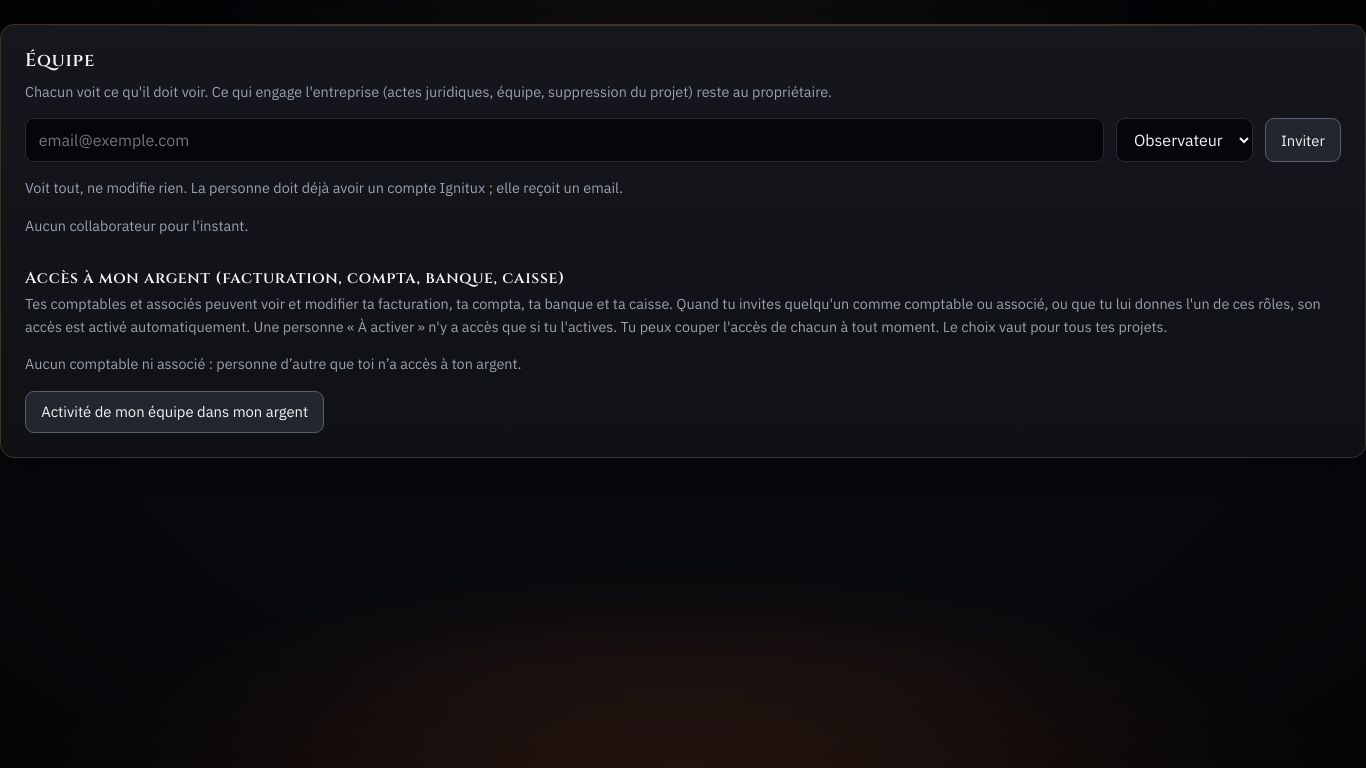
CollaboratorsSection › invite avec le rôle choisi et explique ce que ce rôle permet
This screenshot has width=1366, height=768.
Expected: the text "Aucun collaborateur pour l'instant." is shown, [25,216,248,235]
Select "Salarié" in the dropdown named "Rôle de la personne invitée" at (1184, 140), box [1116,118,1253,162]
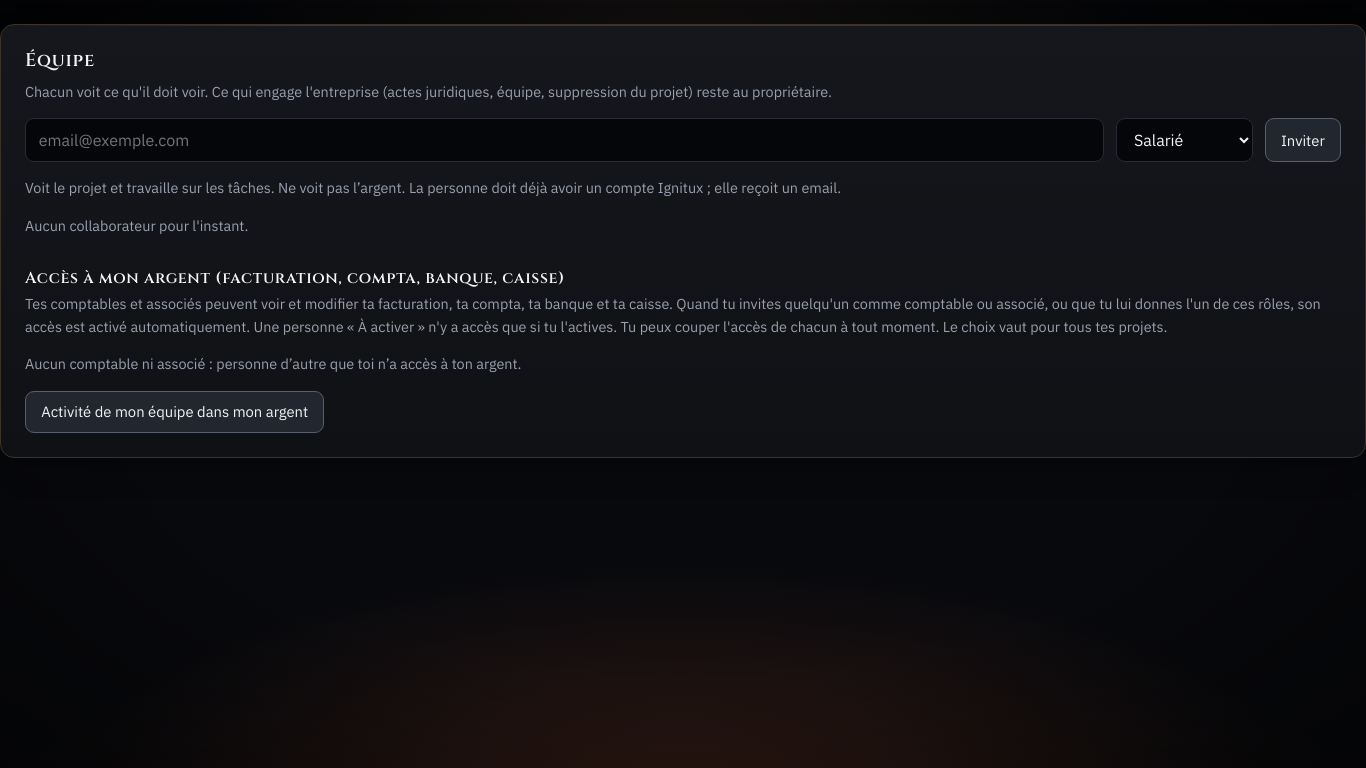
Expected: the text "travaille sur les tâches" is shown, [25,178,406,197]
Type "b@b.com" into the field named "Email du collaborateur à ajouter" at (565, 140), box [25,118,1104,162]
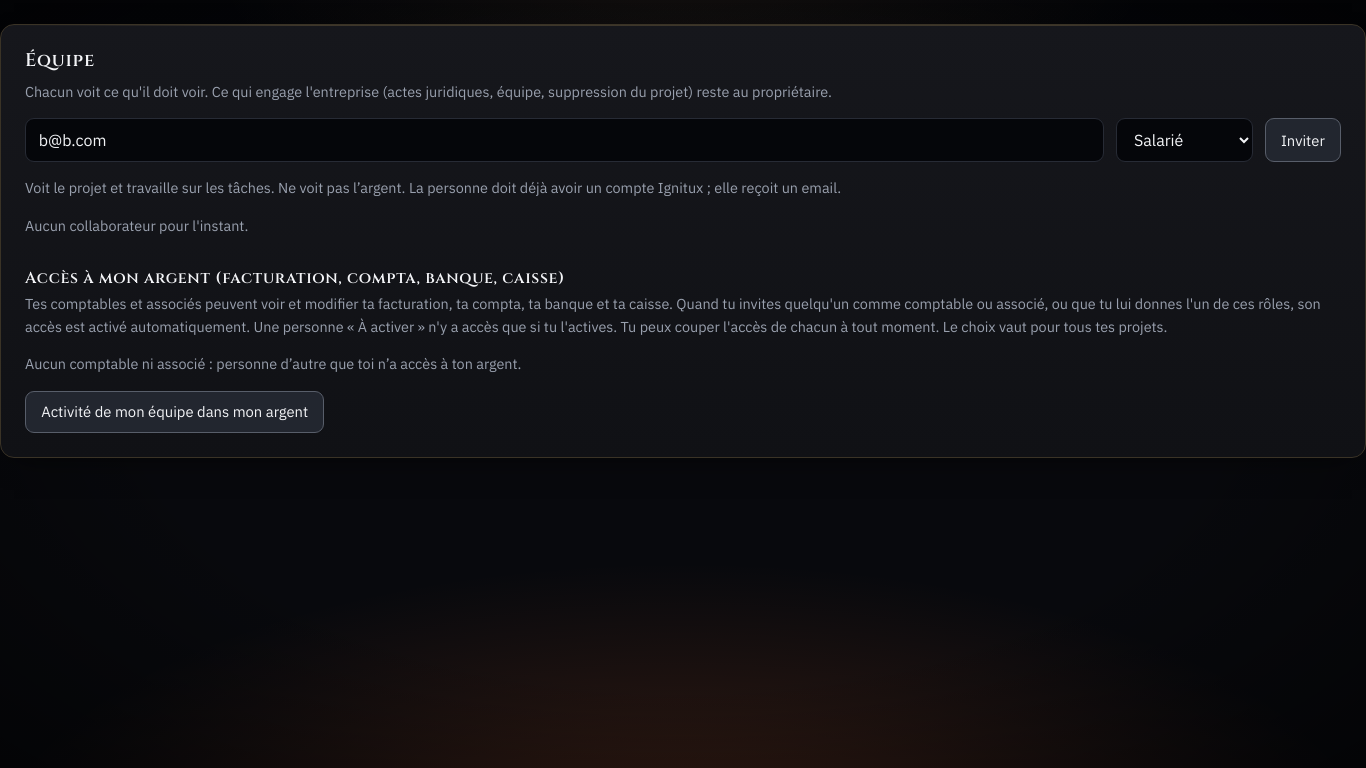
Click the button "Inviter" at (1303, 140), box [1265,118,1341,162]
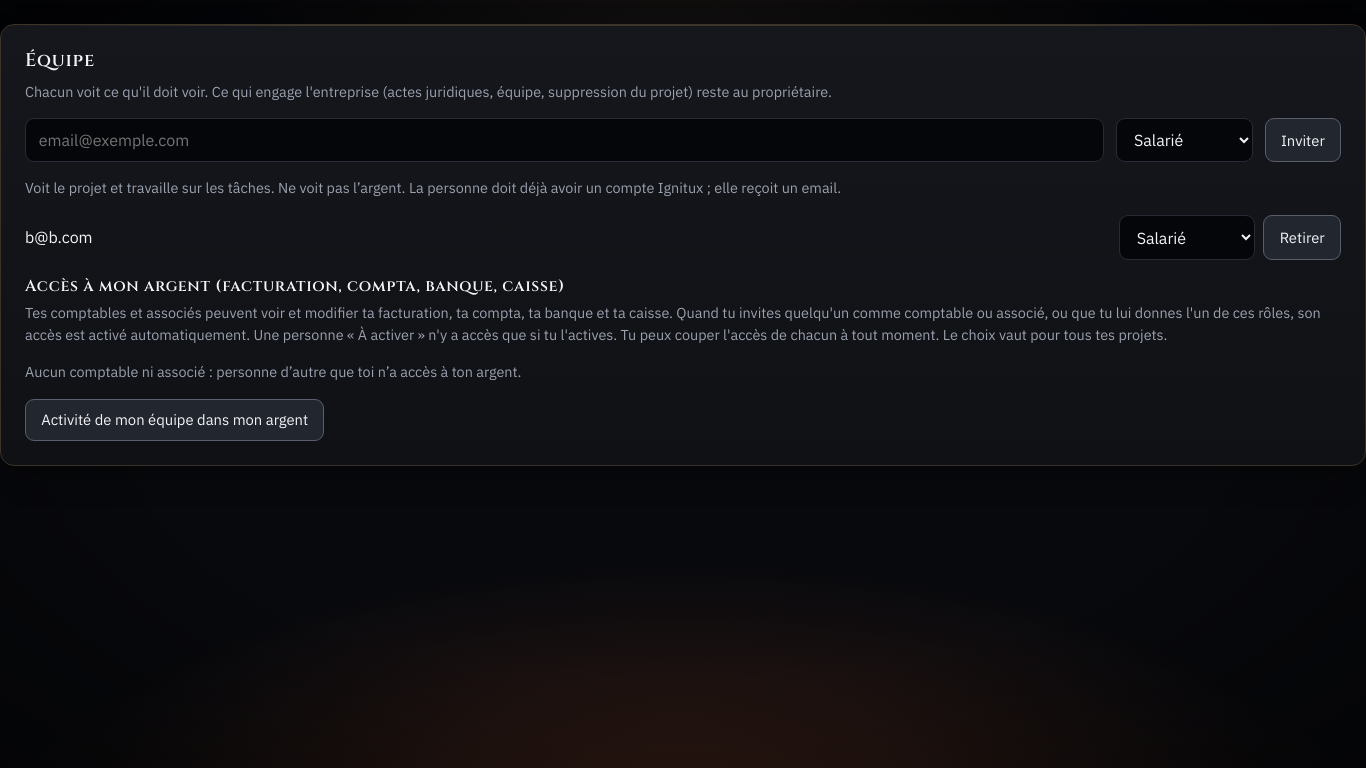
Expected: the text "b@b.com" is shown, [25,225,93,250]
